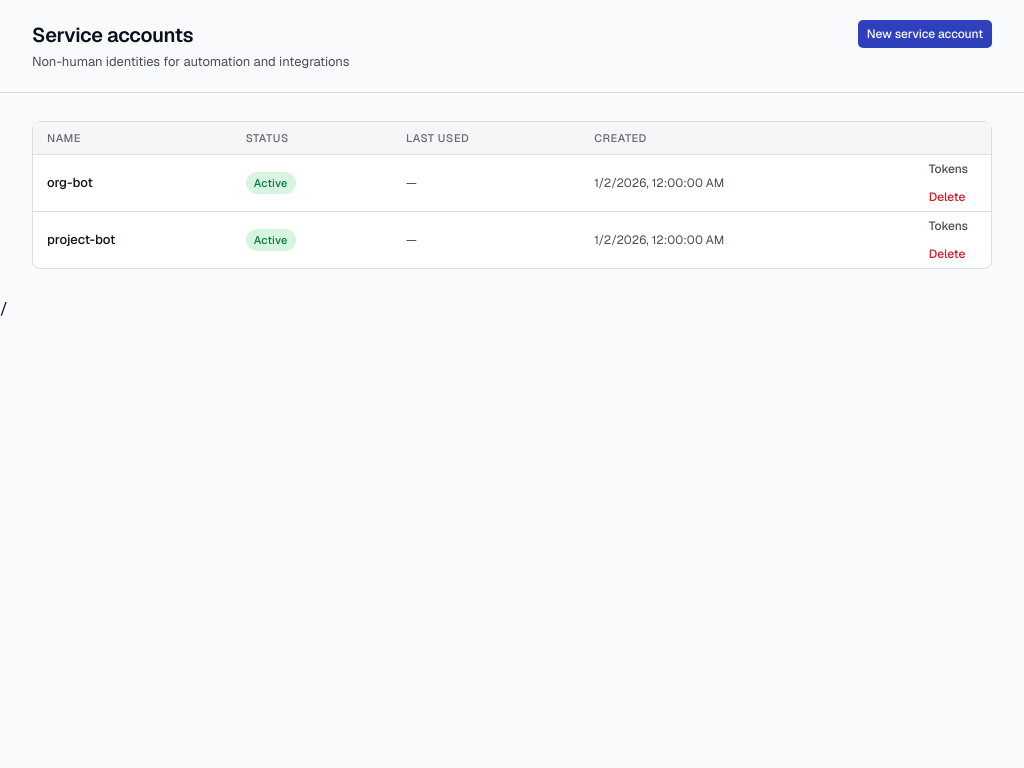
Scenario: tokens › are reachable at org level
What coordinates should you click on to do the following:
click the button "Tokens" in the row of "org-bot"
I would click on:
 (948, 169)
Its box is [920,155,977,183].
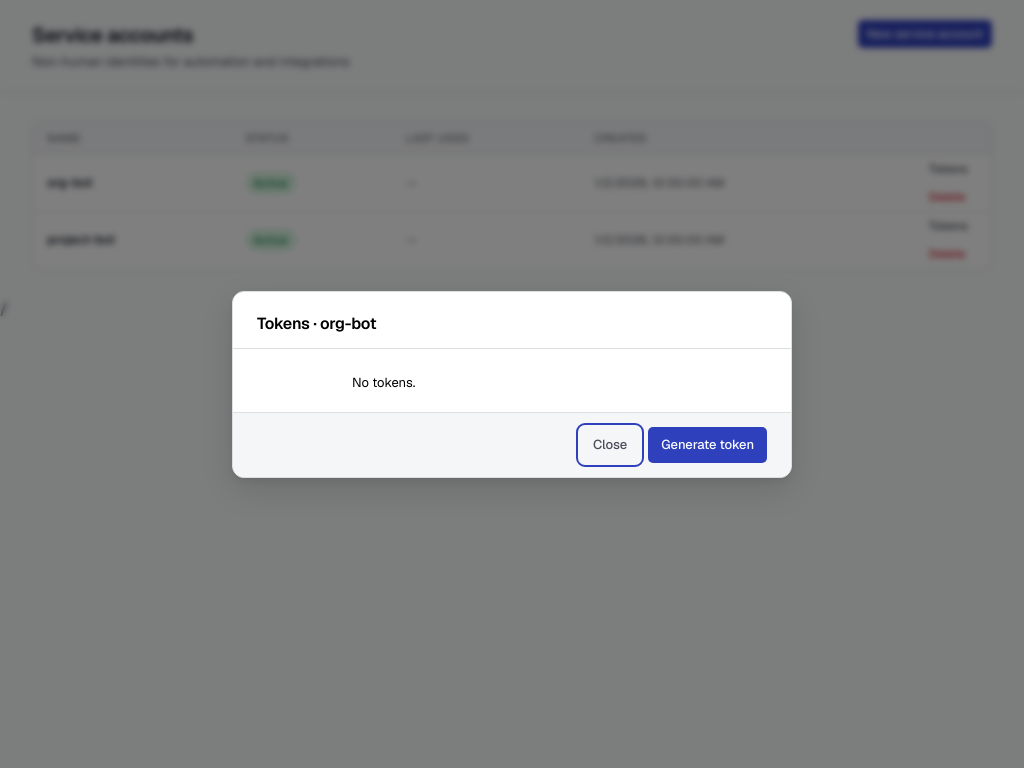
Now the text "Tokens · org-bot" is shown, box [257,312,376,334]
